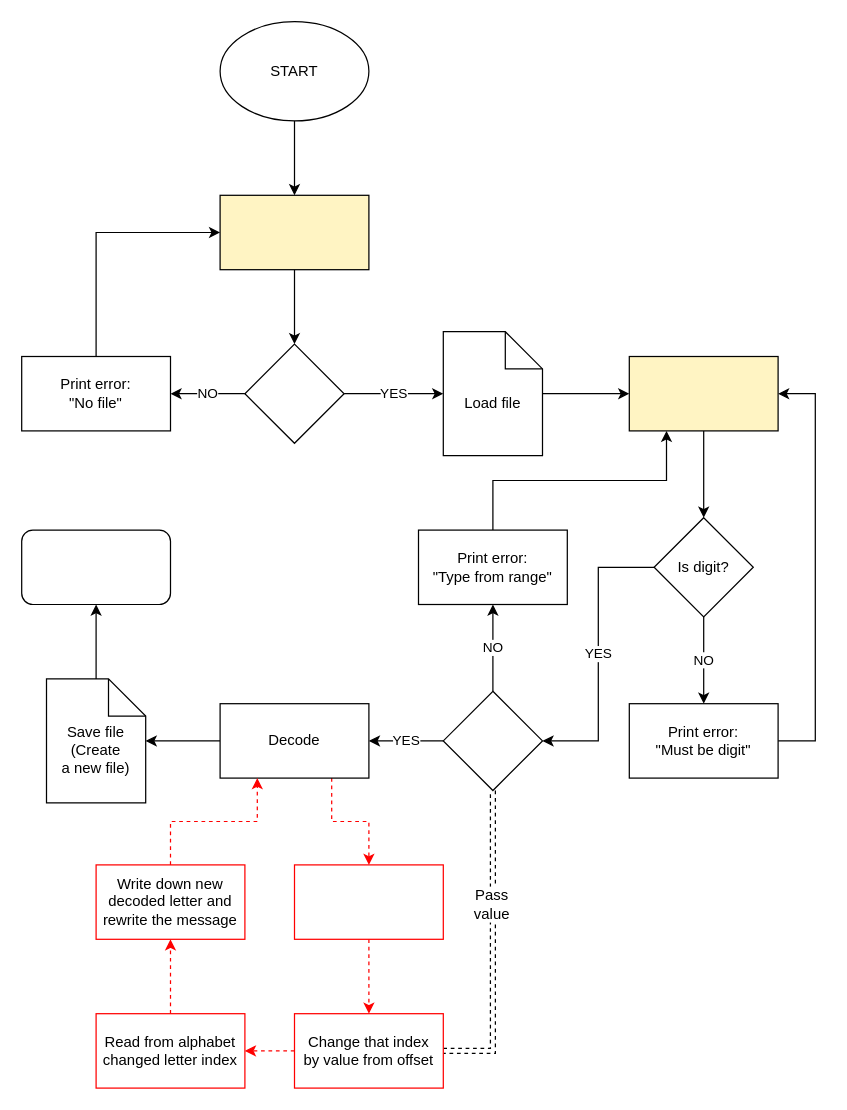
Image size: 847x1110. Some labels were removed from this diagram. The centre of each missing label's shape, as x and y in pixels:
"Check the index number of encoded letter in alphabet" goes at [368,901].
"EXIT" goes at [95,566].
"File exist in directory" goes at [294,393].
"Input Caesar's offset" goes at [703,393].
"Input filename.txt" goes at [294,232].
"Is from range 0-26?" goes at [492,740].
